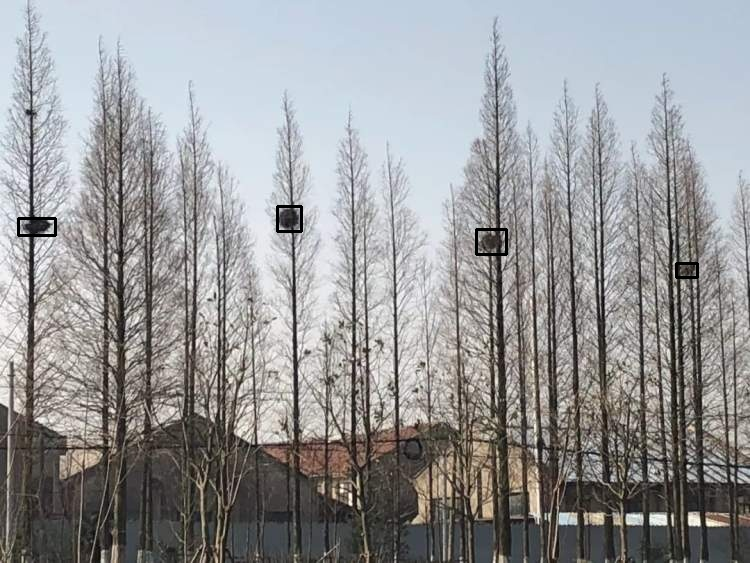bird-nest: (476, 229, 506, 254), (18, 218, 55, 235), (277, 206, 301, 231), (676, 263, 697, 277)
